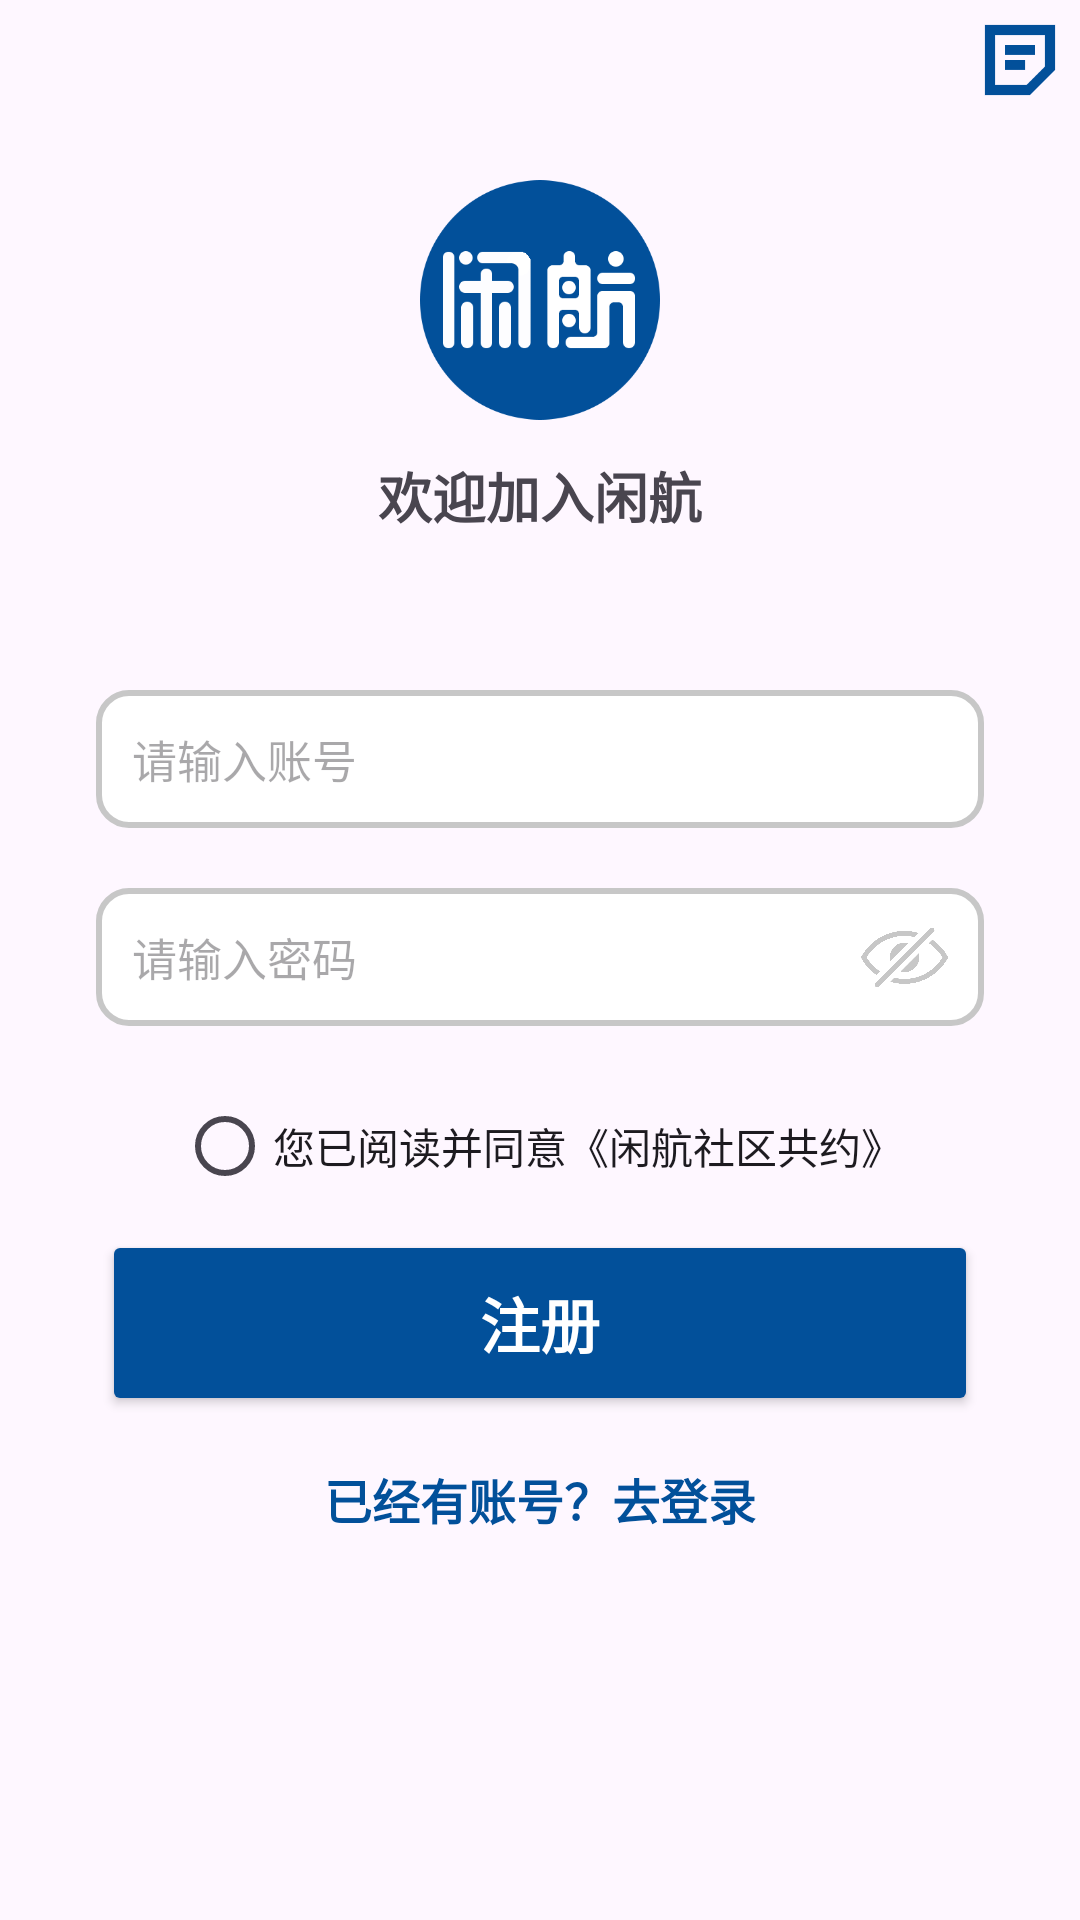

Where to tap for icons on this 1080×1920 app screen, as (x,y):
gongyue: (1020,60)
visibility off: (904,957)
